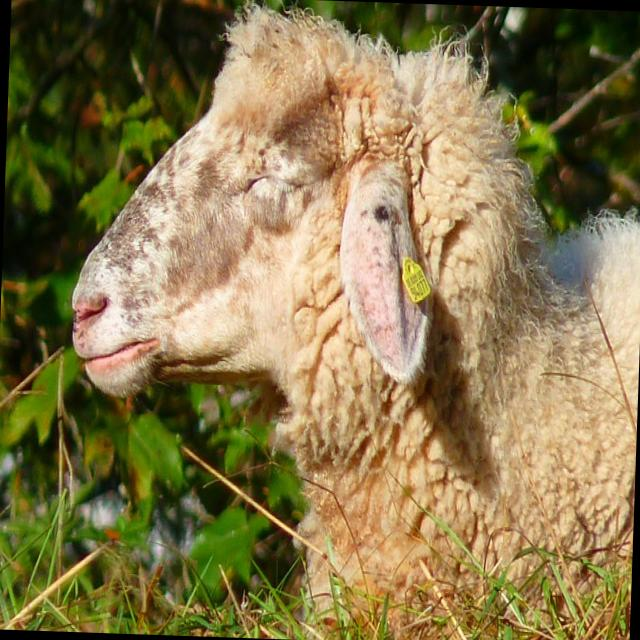sheep: (44, 25, 640, 600)
